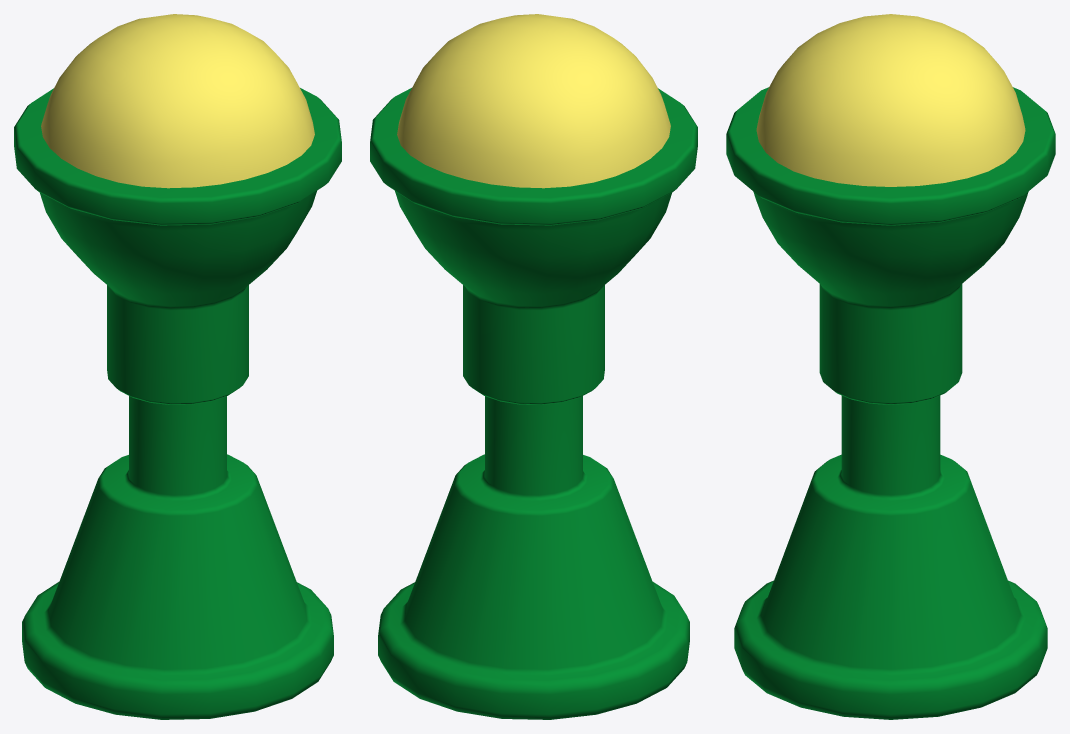
Rendered from City_4_Street_Lamp_1.glb.
The picture shows the model from 3 angles, left to right: view 1: azimuth 30°, elevation 25°; view 2: azimuth 150°, elevation 25°; view 3: azimuth 270°, elevation 25°; orthographic projection.
Visible parts, largest first — view 1: City_4_Street_Lamp_1; view 2: City_4_Street_Lamp_1; view 3: City_4_Street_Lamp_1.
Boxes of the visible parts, left/top/right/bottom form: City_4_Street_Lamp_1: left=14, top=14, right=341, bottom=719; City_4_Street_Lamp_1: left=370, top=14, right=697, bottom=719; City_4_Street_Lamp_1: left=726, top=14, right=1055, bottom=719.
Size of the model in its own units: 0.4877 by 1.03 by 0.4877.
1 material, 1 textured.
